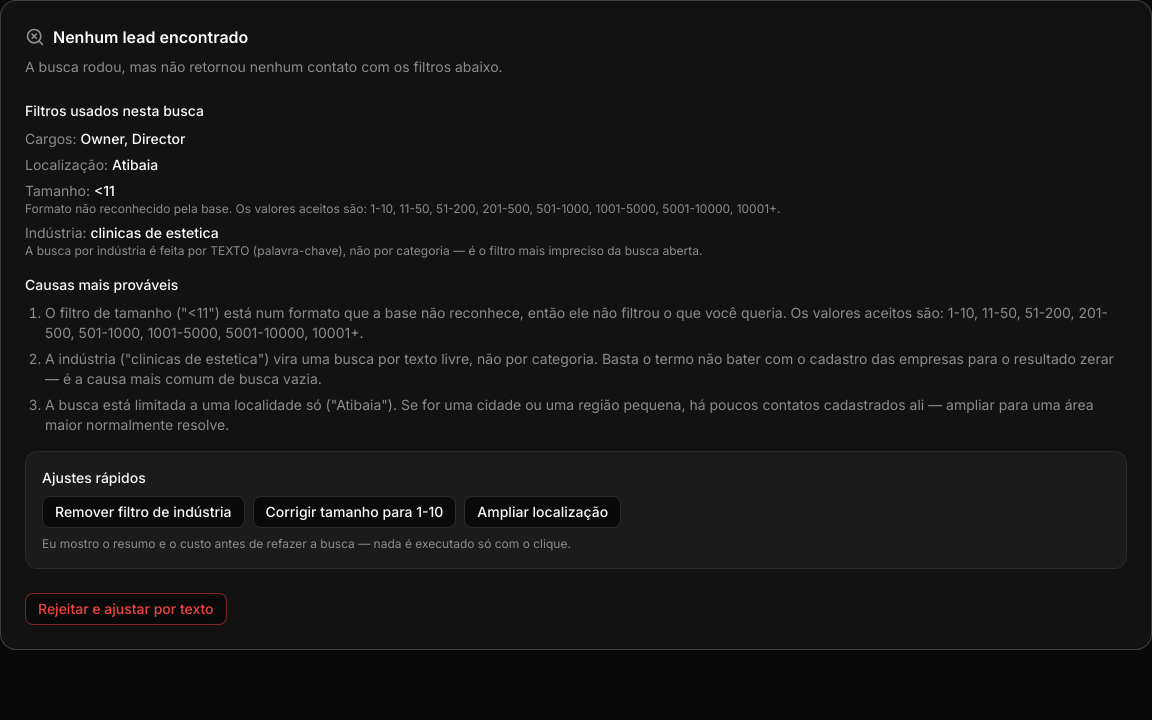
Test: AgentLeadReview (AC: #3, #4) › Story 22.14 - busca vazia (AC #2, #3, #4) › reject que falha NAO publica o sinal do chip (nada de PATCH sobre um gate vivo)
Click the button with test id "empty-chip-remove-industry".
click(143, 512)  # box [42, 496, 244, 528]
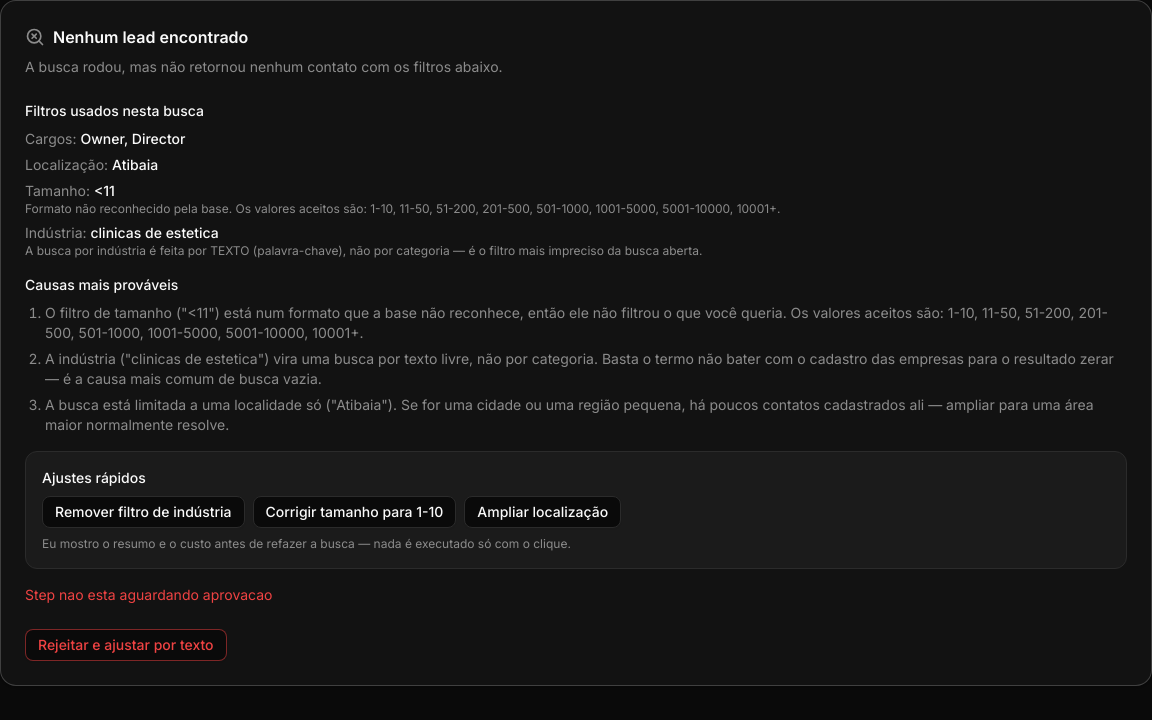
expect the text "Step nao esta aguardando aprovacao" is shown: met, box [25, 586, 272, 603]
